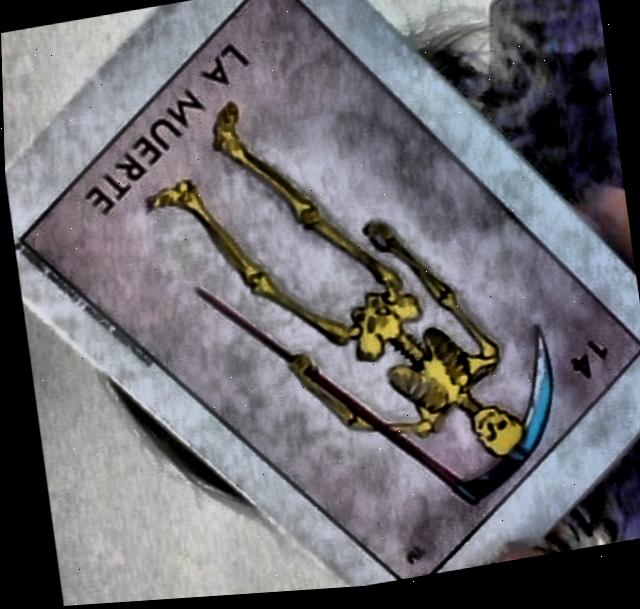La Muerte: (22, 0, 640, 583)
